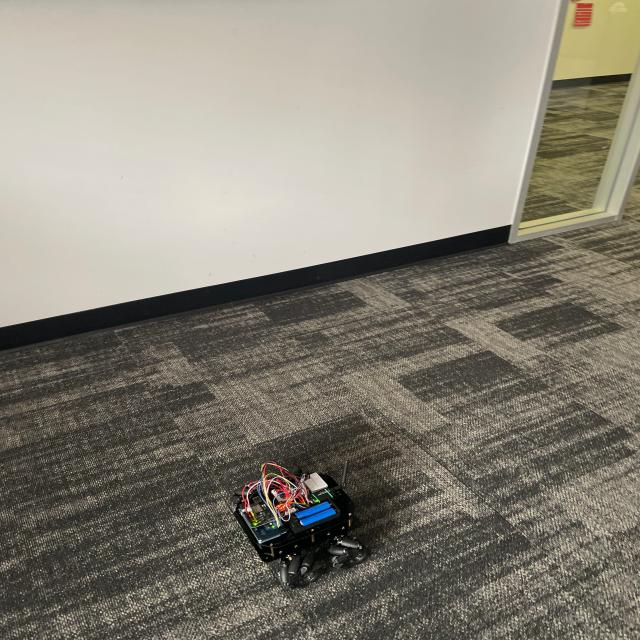ArduinoCar3: (229, 454, 375, 591)
